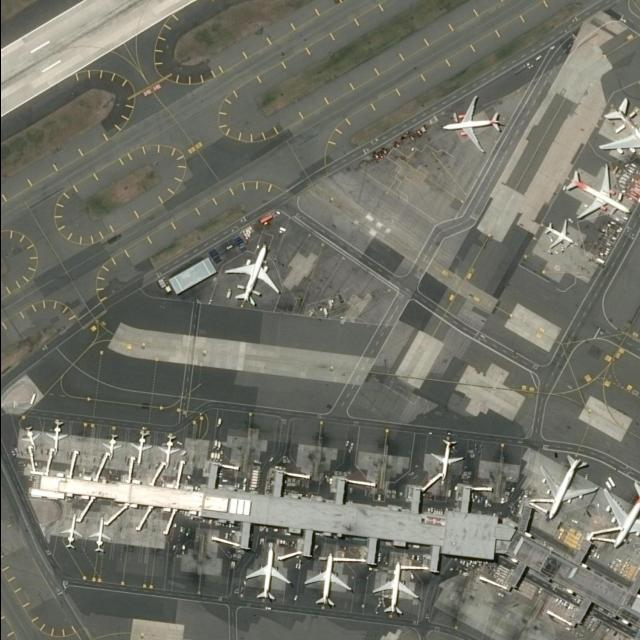Aircraft: (536, 453, 602, 523), (563, 165, 633, 225), (443, 94, 503, 162), (224, 246, 284, 312), (302, 550, 354, 612), (243, 544, 295, 604), (371, 562, 422, 620), (598, 95, 640, 165), (601, 479, 640, 553), (428, 437, 468, 487), (543, 218, 581, 256), (155, 432, 189, 471), (19, 419, 47, 465), (127, 427, 154, 473), (87, 517, 115, 559), (59, 513, 87, 555), (44, 420, 72, 460), (98, 432, 126, 466)
